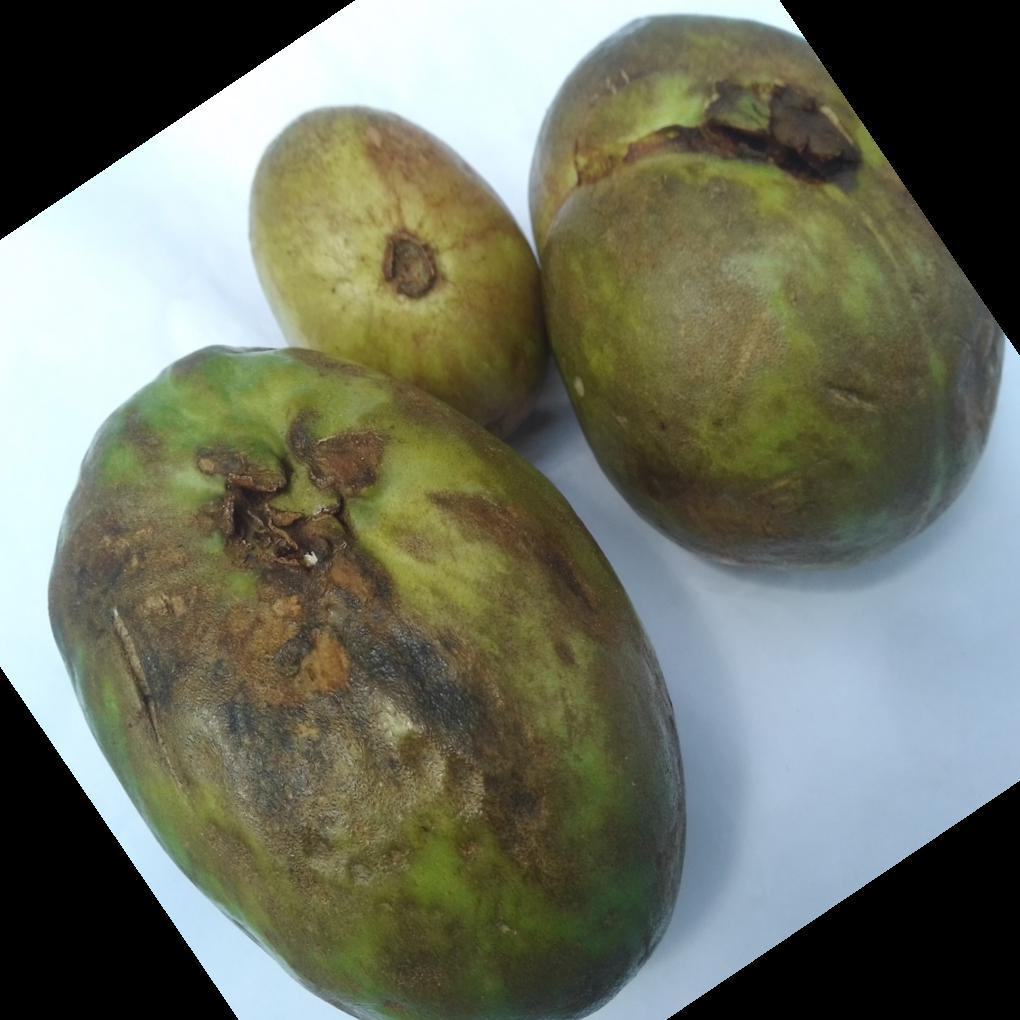FreshOrange: (46, 12, 1010, 1020)
